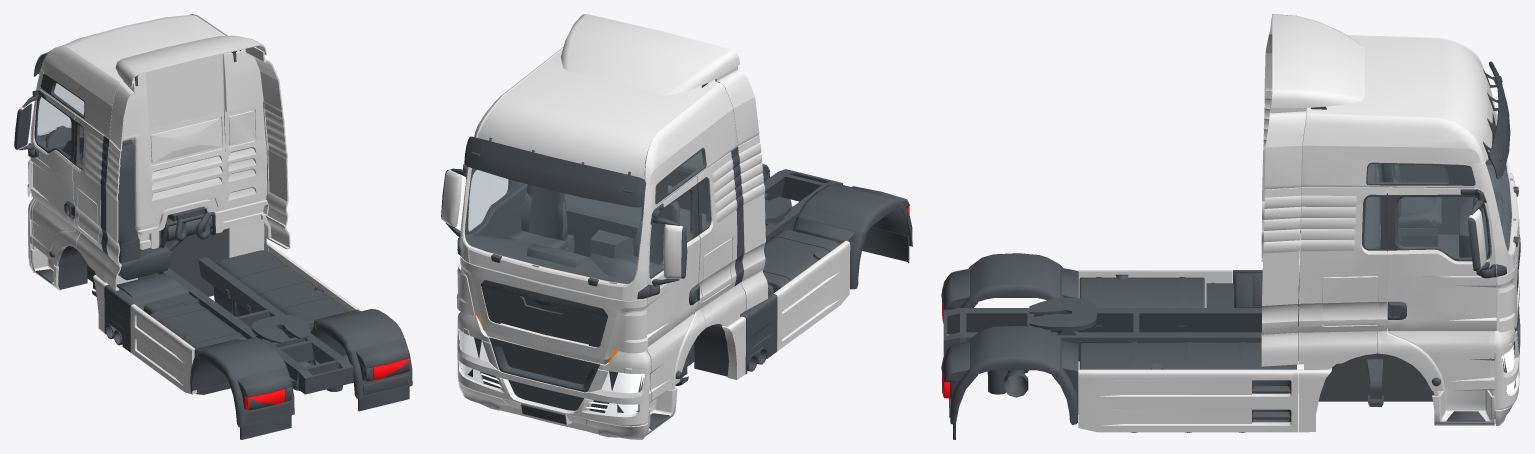
Rendered from tractor.body.glb.
3 renders of one model, left to right at view 1: azimuth 30°, elevation 25°; view 2: azimuth 150°, elevation 25°; view 3: azimuth 270°, elevation 25°, orthographic. The views are drawn at different scales.
Parts seen in each view (by area): view 1: 1_color1 [prim,sp_0_0, 1_color [spec]_0_3, drzwi01_color1 [prim,sp_0_0, drzwi01_color [spec]_0_3, szklo_gris6 [spec,tra_0_2, drzwi01_gris6 [spec,tra_0_2, 1_color [spec]_0_7; view 2: 1_color1 [prim,sp_0_0, 1_color [spec]_0_3, szklo_gris6 [spec,tra_0_2, drzwi01_color1 [prim,sp_0_0, 1_color [spec]_0_5, drzwi01_color [spec]_0_3, drzwi_color [spec]_0_3, drzwi_gris6 [spec,tra_0_2, drzwi01_gris6 [spec,tra_0_2, drzwi_color1 [prim,sp_0_0; view 3: 1_color1 [prim,sp_0_0, 1_color [spec]_0_3, drzwi_color1 [prim,sp_0_0, drzwi_gris6 [spec,tra_0_2, szklo_gris6 [spec,tra_0_2, drzwi_color [spec]_0_3, drzwi01_color [spec]_0_3.
Boxes of the visible parts, x1=… form: 1_color1 [prim,sp_0_0: x1=27, y1=14, x2=359, y2=394; 1_color [spec]_0_3: x1=34, y1=50, x2=412, y2=439; drzwi01_color1 [prim,sp_0_0: x1=18, y1=89, x2=76, y2=257; drzwi01_color [spec]_0_3: x1=14, y1=89, x2=75, y2=219; szklo_gris6 [spec,tra_0_2: x1=38, y1=82, x2=84, y2=168; drzwi01_gris6 [spec,tra_0_2: x1=36, y1=97, x2=70, y2=157; 1_color [spec]_0_7: x1=245, y1=358, x2=409, y2=410; 1_color1 [prim,sp_0_0: x1=456, y1=14, x2=850, y2=439; 1_color [spec]_0_3: x1=459, y1=82, x2=912, y2=429; szklo_gris6 [spec,tra_0_2: x1=465, y1=150, x2=709, y2=283; drzwi01_color1 [prim,sp_0_0: x1=645, y1=176, x2=700, y2=402; 1_color [spec]_0_5: x1=458, y1=328, x2=644, y2=415; drzwi01_color [spec]_0_3: x1=637, y1=184, x2=700, y2=305; drzwi_color [spec]_0_3: x1=441, y1=164, x2=513, y2=255; drzwi_gris6 [spec,tra_0_2: x1=469, y1=170, x2=508, y2=230; drzwi01_gris6 [spec,tra_0_2: x1=649, y1=191, x2=690, y2=275; drzwi_color1 [prim,sp_0_0: x1=441, y1=170, x2=462, y2=226; 1_color1 [prim,sp_0_0: x1=1078, y1=14, x2=1520, y2=432; 1_color [spec]_0_3: x1=941, y1=61, x2=1520, y2=439; drzwi_color1 [prim,sp_0_0: x1=1388, y1=187, x2=1497, y2=390; drzwi_gris6 [spec,tra_0_2: x1=1398, y1=197, x2=1488, y2=257; szklo_gris6 [spec,tra_0_2: x1=1364, y1=109, x2=1511, y2=251; drzwi_color [spec]_0_3: x1=1388, y1=189, x2=1506, y2=319; drzwi01_color [spec]_0_3: x1=1400, y1=160, x2=1487, y2=234.
Size of the model in its own units: 2.99 by 3.73 by 5.81.
